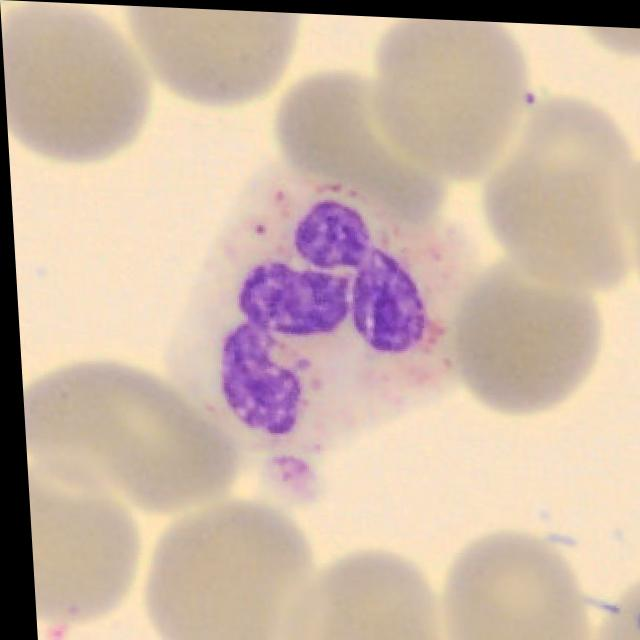Neutrofilo segmentado: (162, 162, 461, 453)
